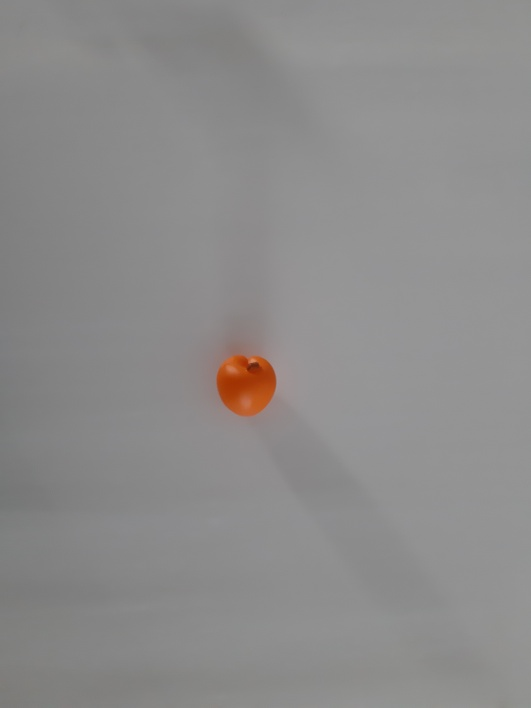apricot: (201, 342, 292, 432)
